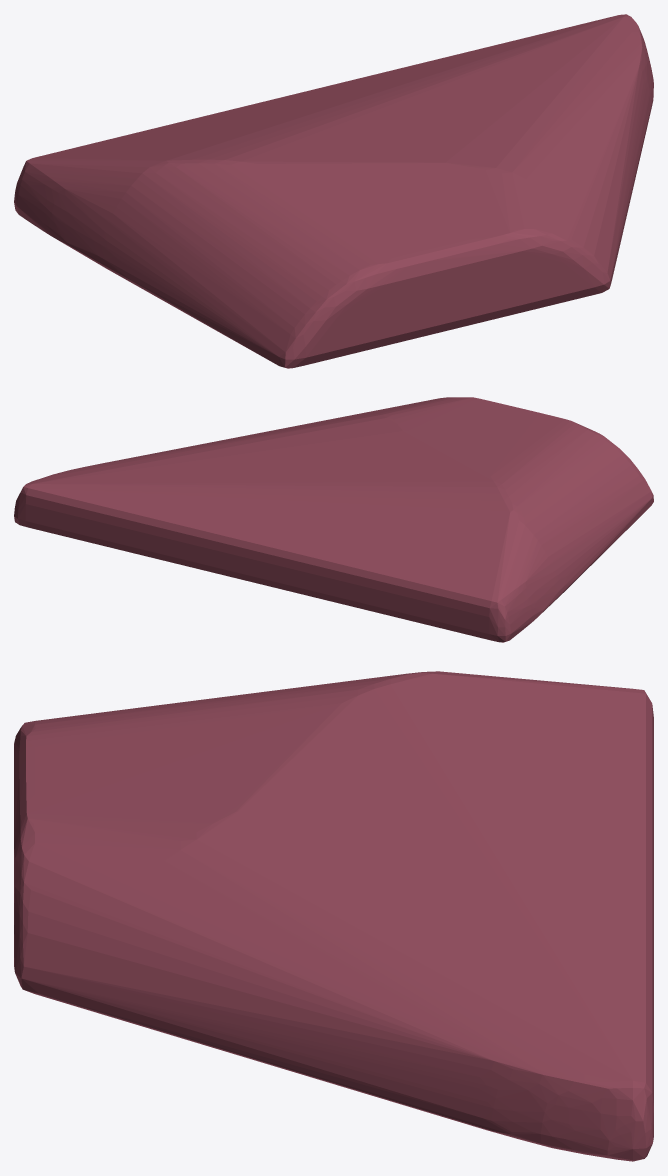
File: right_shoulder_yaw_link_part_13.obj
3 views of the same model, one above another, from view 1: azimuth 30°, elevation 25°; view 2: azimuth 150°, elevation 25°; view 3: azimuth 270°, elevation 25° (orthographic). The views are drawn at different scales.
Bounding box in the file's own units: 0.0972 × 0.0152 × 0.0633.
